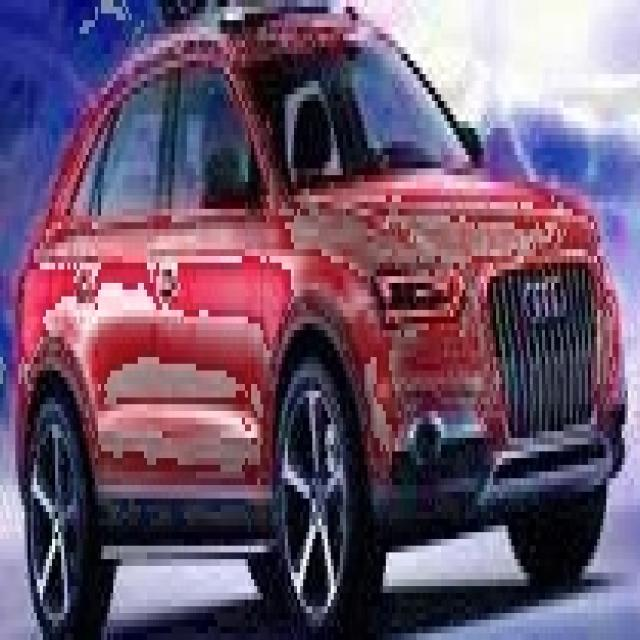maroon: (15, 24, 628, 603)
